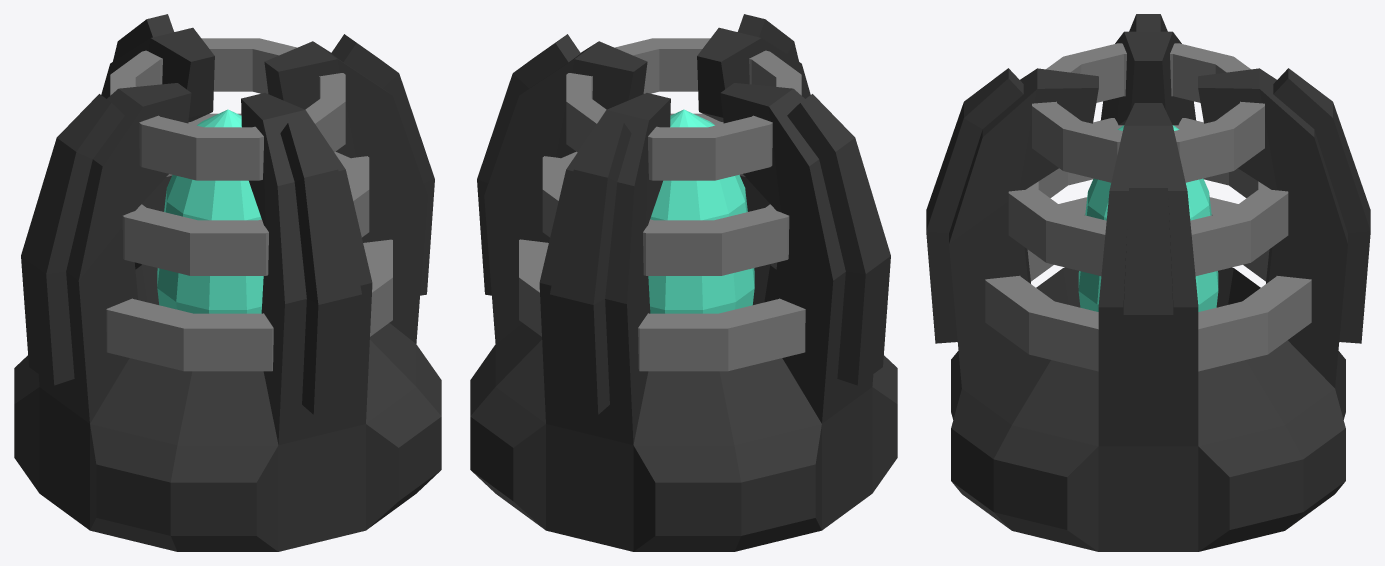
Rendered from swordNEW.obj.
3 views of the same model, side by side, from view 1: azimuth 30°, elevation 25°; view 2: azimuth 150°, elevation 25°; view 3: azimuth 270°, elevation 25° (orthographic).
Parts seen in each view (by area): view 1: cylinder, tube, sphere; view 2: cylinder, tube, sphere; view 3: cylinder, tube, sphere.
Boxes of the visible parts, x1=… form: cylinder: x1=14, y1=14, x2=441, y2=551; tube: x1=106, y1=38, x2=392, y2=371; sphere: x1=157, y1=109, x2=263, y2=313; cylinder: x1=470, y1=14, x2=897, y2=551; tube: x1=519, y1=38, x2=805, y2=371; sphere: x1=648, y1=109, x2=754, y2=313; cylinder: x1=926, y1=14, x2=1370, y2=551; tube: x1=985, y1=43, x2=1311, y2=371; sphere: x1=1078, y1=125, x2=1218, y2=311.
Size of the model in its own units: 1.19 by 1.18 by 1.19.
